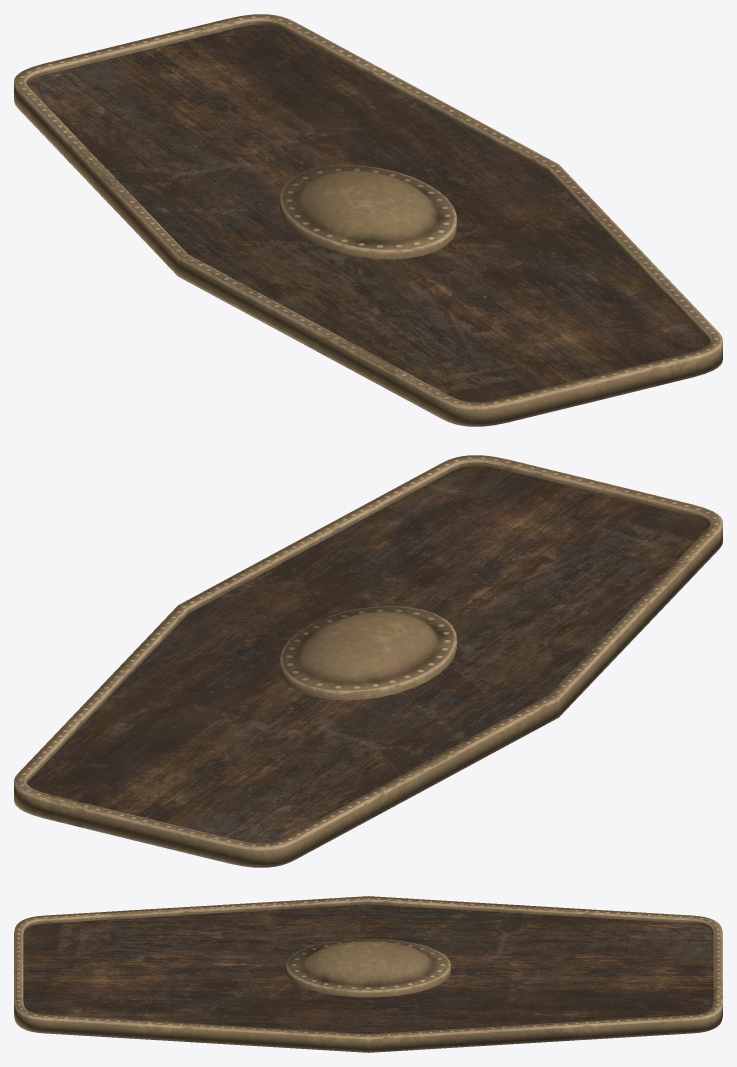
The model's file is dunland_wulf_shield_light_b.fbx.
3 views of the same model, one above another, from view 1: azimuth 30°, elevation 25°; view 2: azimuth 150°, elevation 25°; view 3: azimuth 270°, elevation 25° (orthographic). The views are drawn at different scales.
Parts seen in each view (by area): view 1: dunland_wulf_shield_light_b; view 2: dunland_wulf_shield_light_b; view 3: dunland_wulf_shield_light_b.
Boxes of the visible parts, box(x1,y1,x2,y2) form: dunland_wulf_shield_light_b: box(14, 14, 722, 426); dunland_wulf_shield_light_b: box(14, 455, 722, 867); dunland_wulf_shield_light_b: box(14, 896, 722, 1052).
Size of the model in its own units: 0.72 by 1.52 by 0.0806.
1 material, 1 textured.
